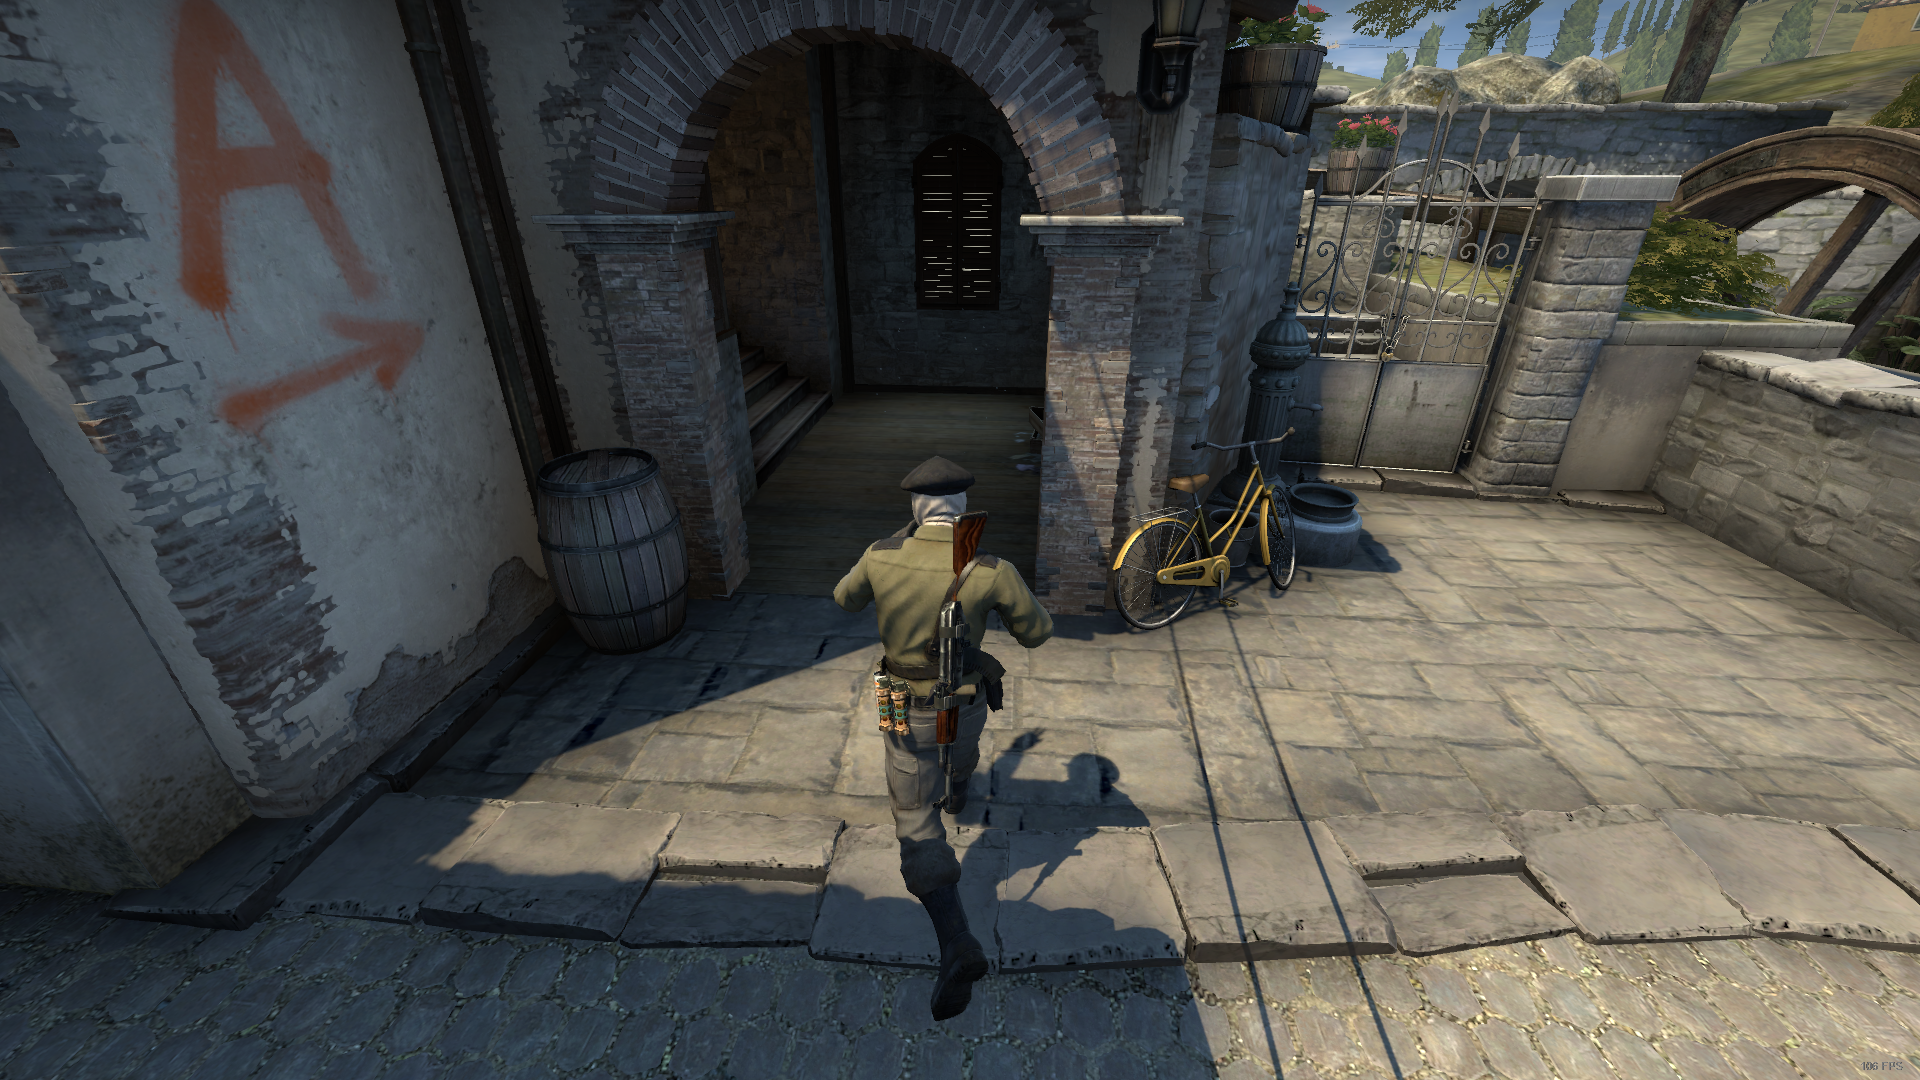t: (833, 454, 1055, 1027)
